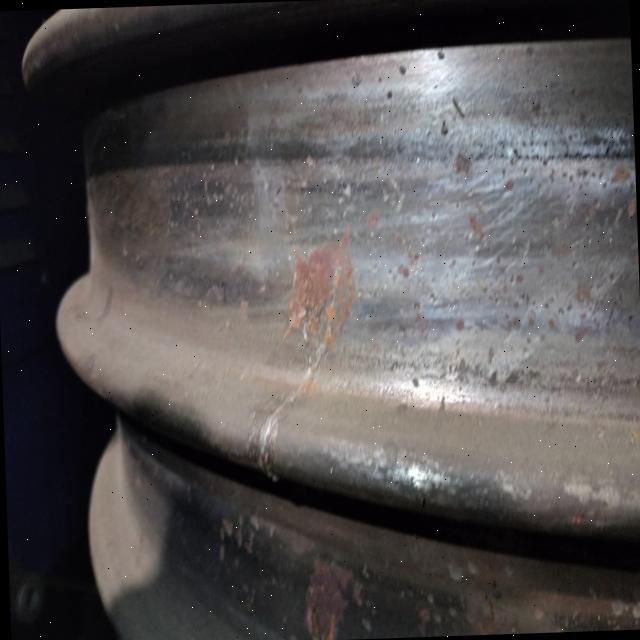Out_Of_Roundness: (261, 386, 293, 500)
